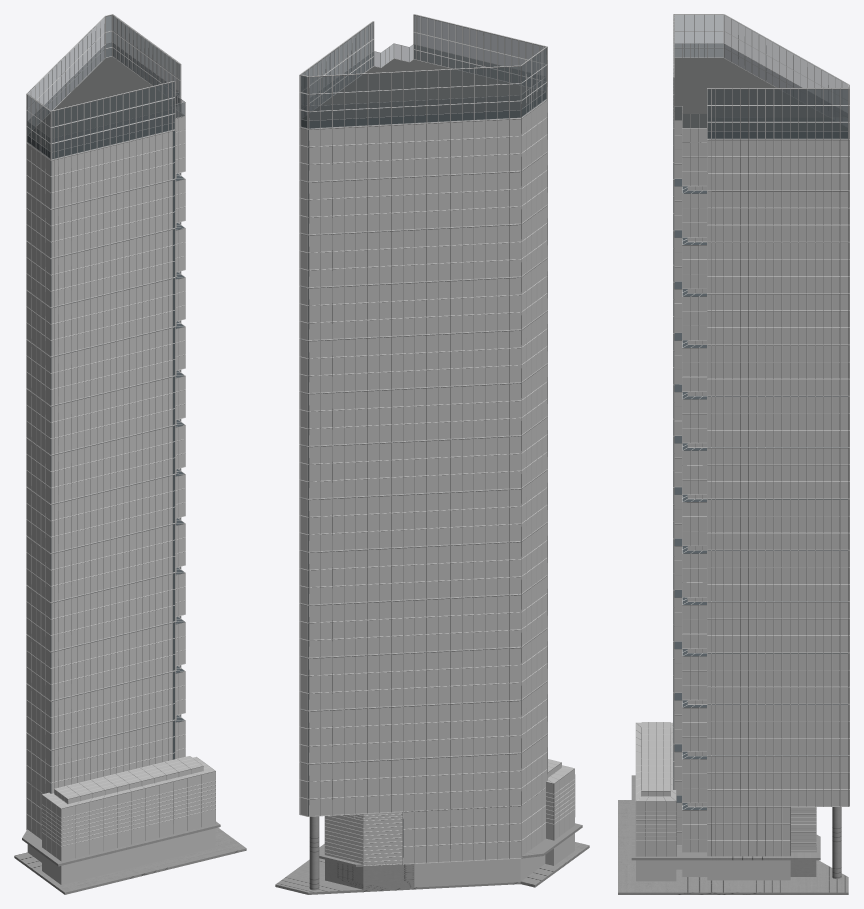
Rendered from Building _01_V2.fbx.
The picture shows the model from 3 angles, left to right: view 1: azimuth 30°, elevation 25°; view 2: azimuth 150°, elevation 25°; view 3: azimuth 270°, elevation 25°; orthographic projection. The views are drawn at different scales.
Visible parts, largest first — view 1: Cube.001, Cube.002, Cube.007, Cube.003, Cube, Cube.010, Cube.008, Cube.009, Cube.005; view 2: Cube.001, Cube.002, Cube.003, Cube.005, Cube.006, Cube.011, Cube.008, Cube.012, Cube.007, Cube.009, Cylinder; view 3: Cube.001, Cube, Cube.002, Cube.003, Cube.007, Cube.008, Cube.005, Cube.011, Cube.009, Cube.004, Cube.006, Cube.010 (+1 smaller).
Boxes of the visible parts, x1,y1,x2,y2 form: Cube.001: (26,130,181,793); Cube.002: (26,14,181,160); Cube.007: (42,756,215,861); Cube.003: (27,42,185,158); Cube: (175,130,185,758); Cube.010: (42,828,215,884); Cube.008: (14,827,246,894); Cube.009: (22,821,220,866); Cube.005: (26,782,42,839); Cube.001: (299,99,547,816); Cube.002: (299,14,547,129); Cube.003: (301,43,546,128); Cube.005: (402,788,545,864); Cube.006: (324,812,402,865); Cube.011: (414,855,545,887); Cube.008: (275,842,589,894); Cube.012: (325,859,414,890); Cube.007: (546,759,575,840); Cube.009: (319,823,582,866); Cylinder: (309,816,319,890); Cube.001: (673,128,849,806); Cube: (674,134,706,802); Cube.002: (673,14,849,139); Cube.003: (674,43,847,142); Cube.007: (635,722,676,856); Cube.008: (618,800,848,894); Cube.005: (707,807,790,856); Cube.011: (676,860,790,880); Cube.009: (631,775,820,860); Cube.004: (676,795,706,852); Cube.006: (790,807,816,855); Cube.010: (636,860,676,881).
Bounding box in the file's own units: 2736 × 10946 × 2895.
